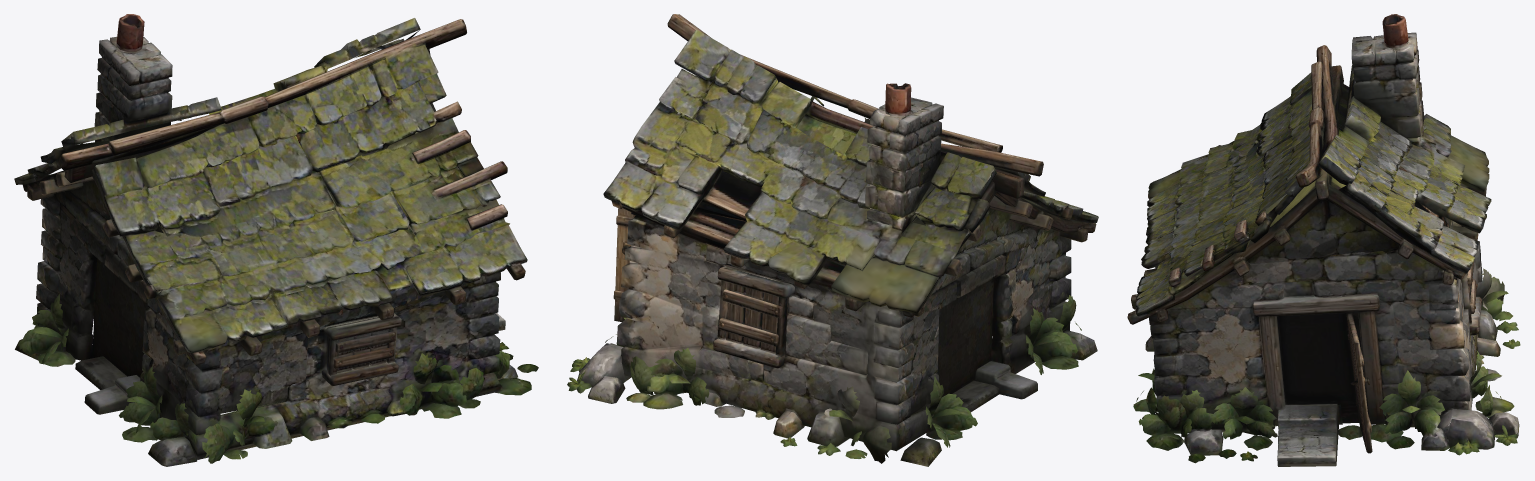
The model's file is act1-a08-3-farmhouse.glb.
3 renders of one model, left to right at view 1: azimuth 30°, elevation 25°; view 2: azimuth 150°, elevation 25°; view 3: azimuth 270°, elevation 25°, orthographic. The views are drawn at different scales.
Visible parts, largest first — view 1: act1-a08-3-farmhouse; view 2: act1-a08-3-farmhouse; view 3: act1-a08-3-farmhouse.
Boxes of the visible parts, box(x1,y1,x2,y2) form: act1-a08-3-farmhouse: box(14, 14, 538, 466); act1-a08-3-farmhouse: box(567, 14, 1098, 466); act1-a08-3-farmhouse: box(1127, 14, 1520, 466).
Size of the model in its own units: 8.17 by 6.4 by 7.22.
Materials: 1 (1 with a texture image).
